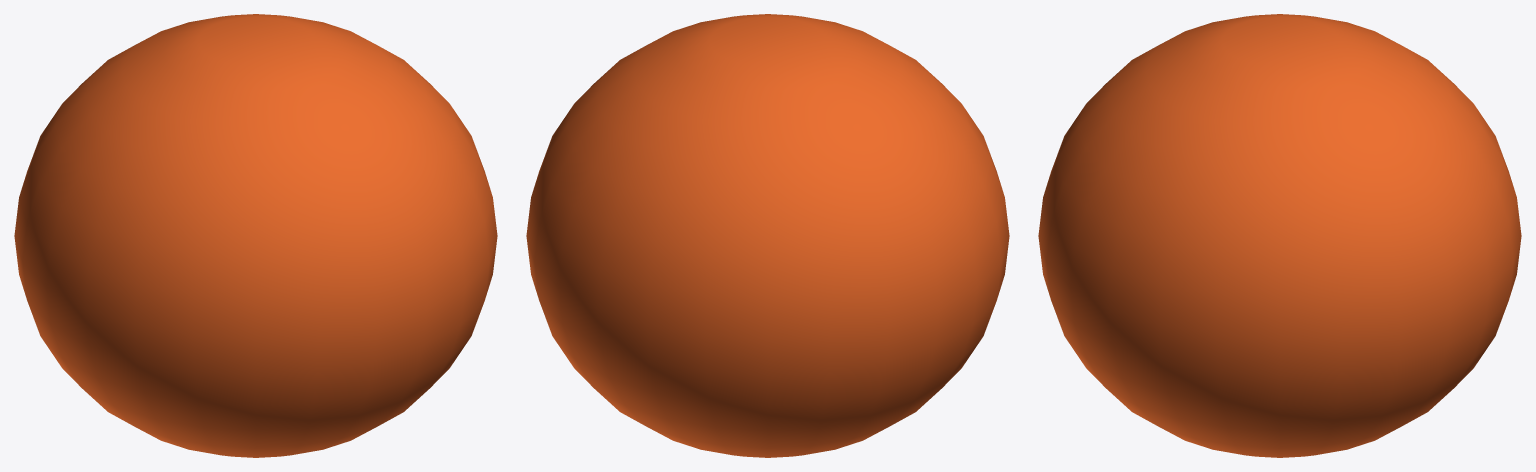
Rendered from food_orange.fbx.
3 renders of one model, left to right at view 1: azimuth 30°, elevation 25°; view 2: azimuth 150°, elevation 25°; view 3: azimuth 270°, elevation 25°, orthographic.
Visible parts, largest first — view 1: food_orange; view 2: food_orange; view 3: food_orange.
Boxes of the visible parts, left/top/right/bottom form: food_orange: left=14, top=14, right=497, bottom=457; food_orange: left=526, top=14, right=1009, bottom=457; food_orange: left=1038, top=14, right=1521, bottom=457.
Bounding box in the file's own units: 11.09 × 9.93 × 11.09.
